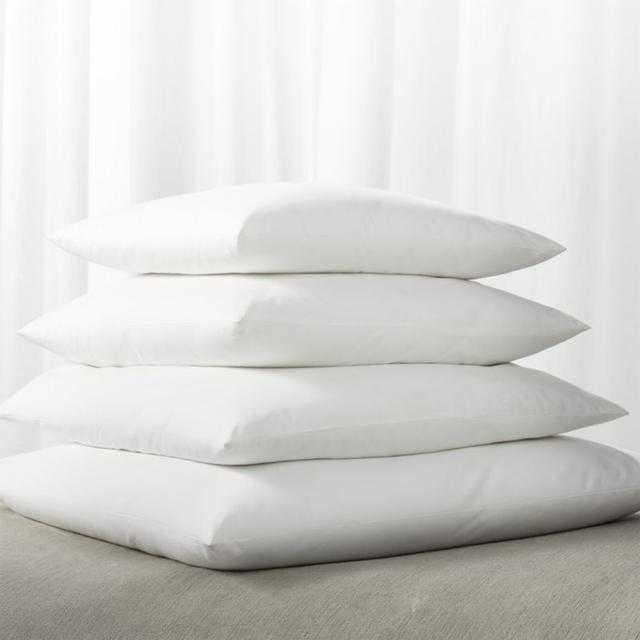pillow: (1, 434, 640, 570), (0, 361, 628, 466), (16, 272, 592, 368), (46, 178, 566, 278)
